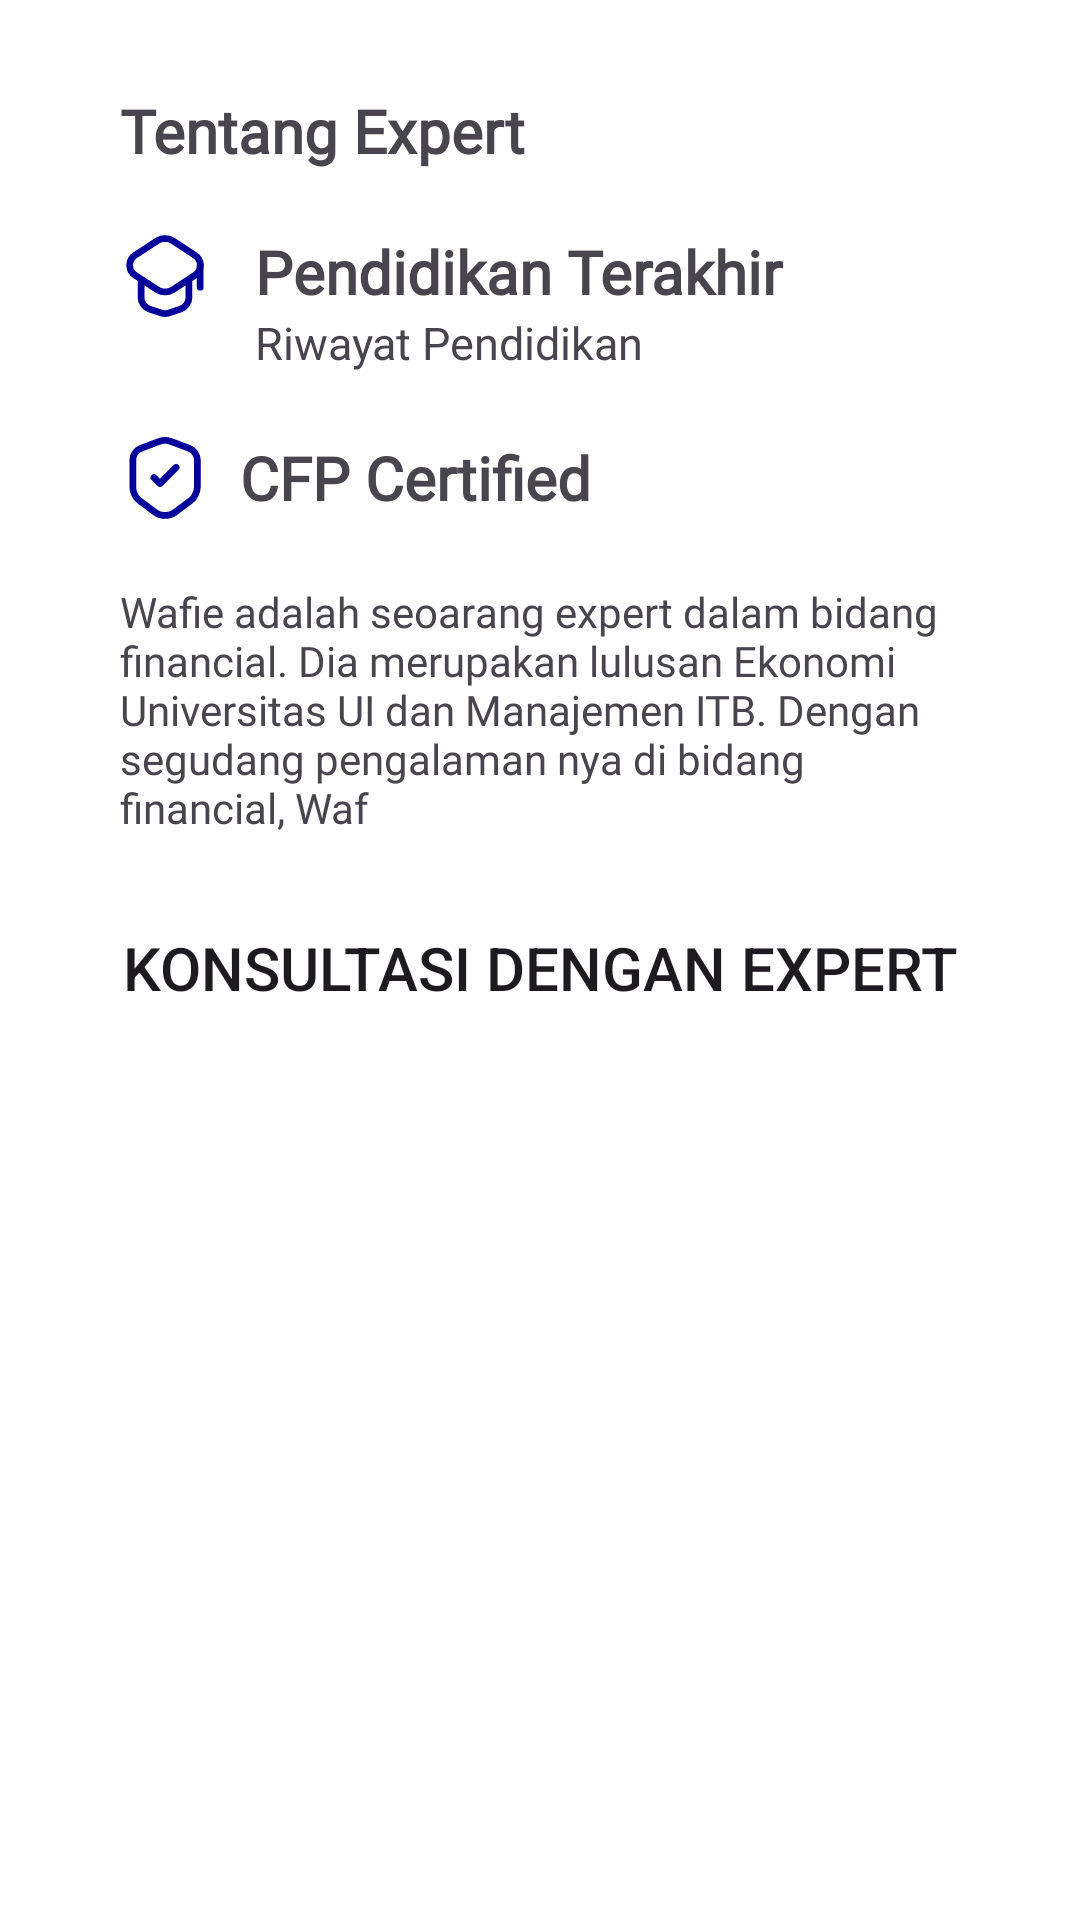

Icon click points for this 1080*1920 phone screenshot, format (x,y):
shield tick: (165,478)
teacher: (165,276)
